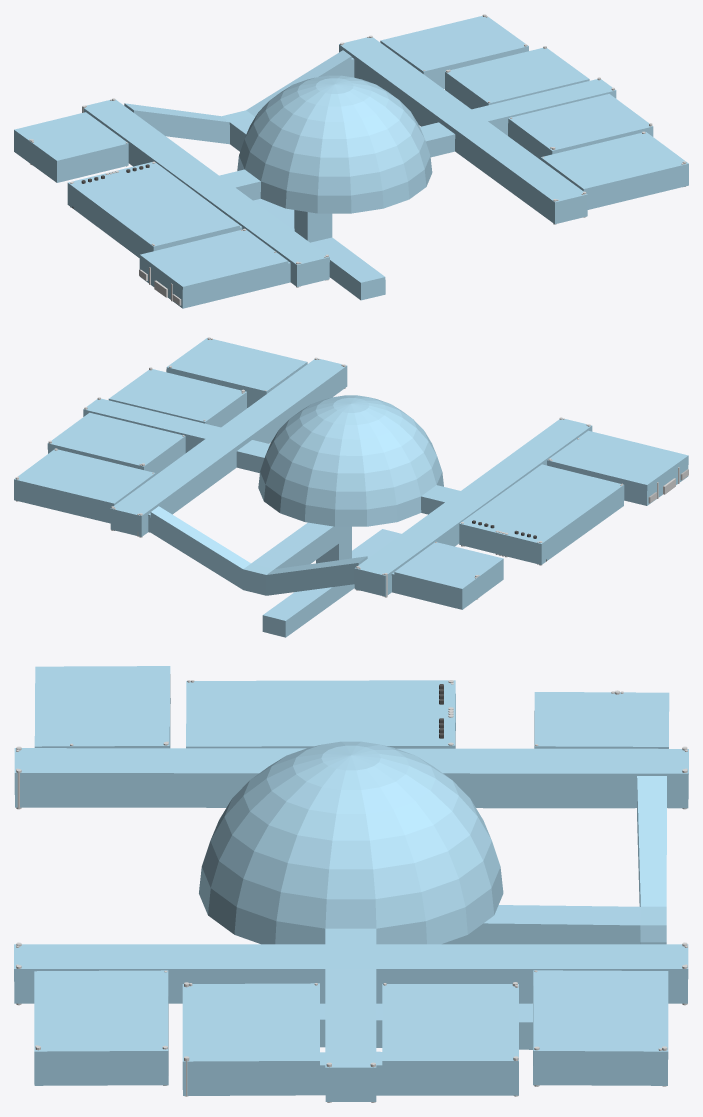
Rendered from AbsoluteCrisis 1.fbx.
3 views of the same model, one above another, from view 1: azimuth 30°, elevation 25°; view 2: azimuth 150°, elevation 25°; view 3: azimuth 270°, elevation 25° (orthographic). The views are drawn at different scales.
Visible parts, largest first — view 1: Paredes; view 2: Paredes; view 3: Paredes.
Boxes of the visible parts, x1,y1,x2,y2 form: Paredes: (14,16,688,308); Paredes: (14,338,688,637); Paredes: (14,666,688,1101).
Bounding box in the file's own units: 31869 × 10570 × 22598.
